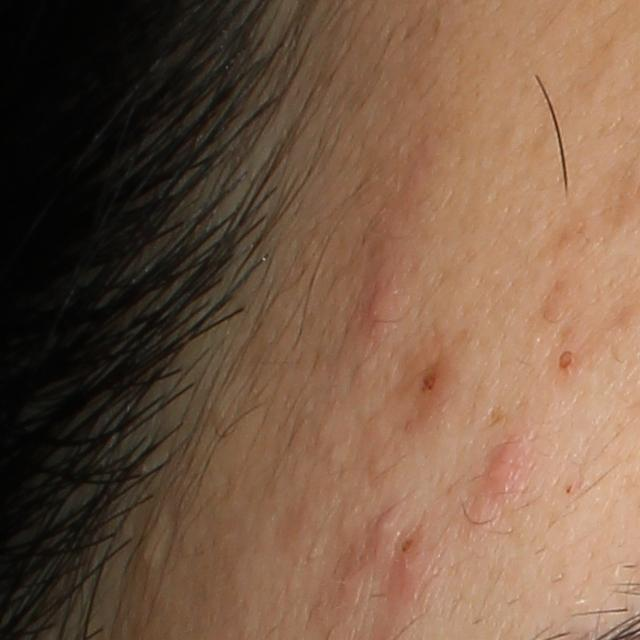comedo: (552, 348, 577, 374)
papule: (468, 437, 533, 531), (388, 530, 433, 610), (347, 283, 407, 340), (368, 512, 397, 543)
